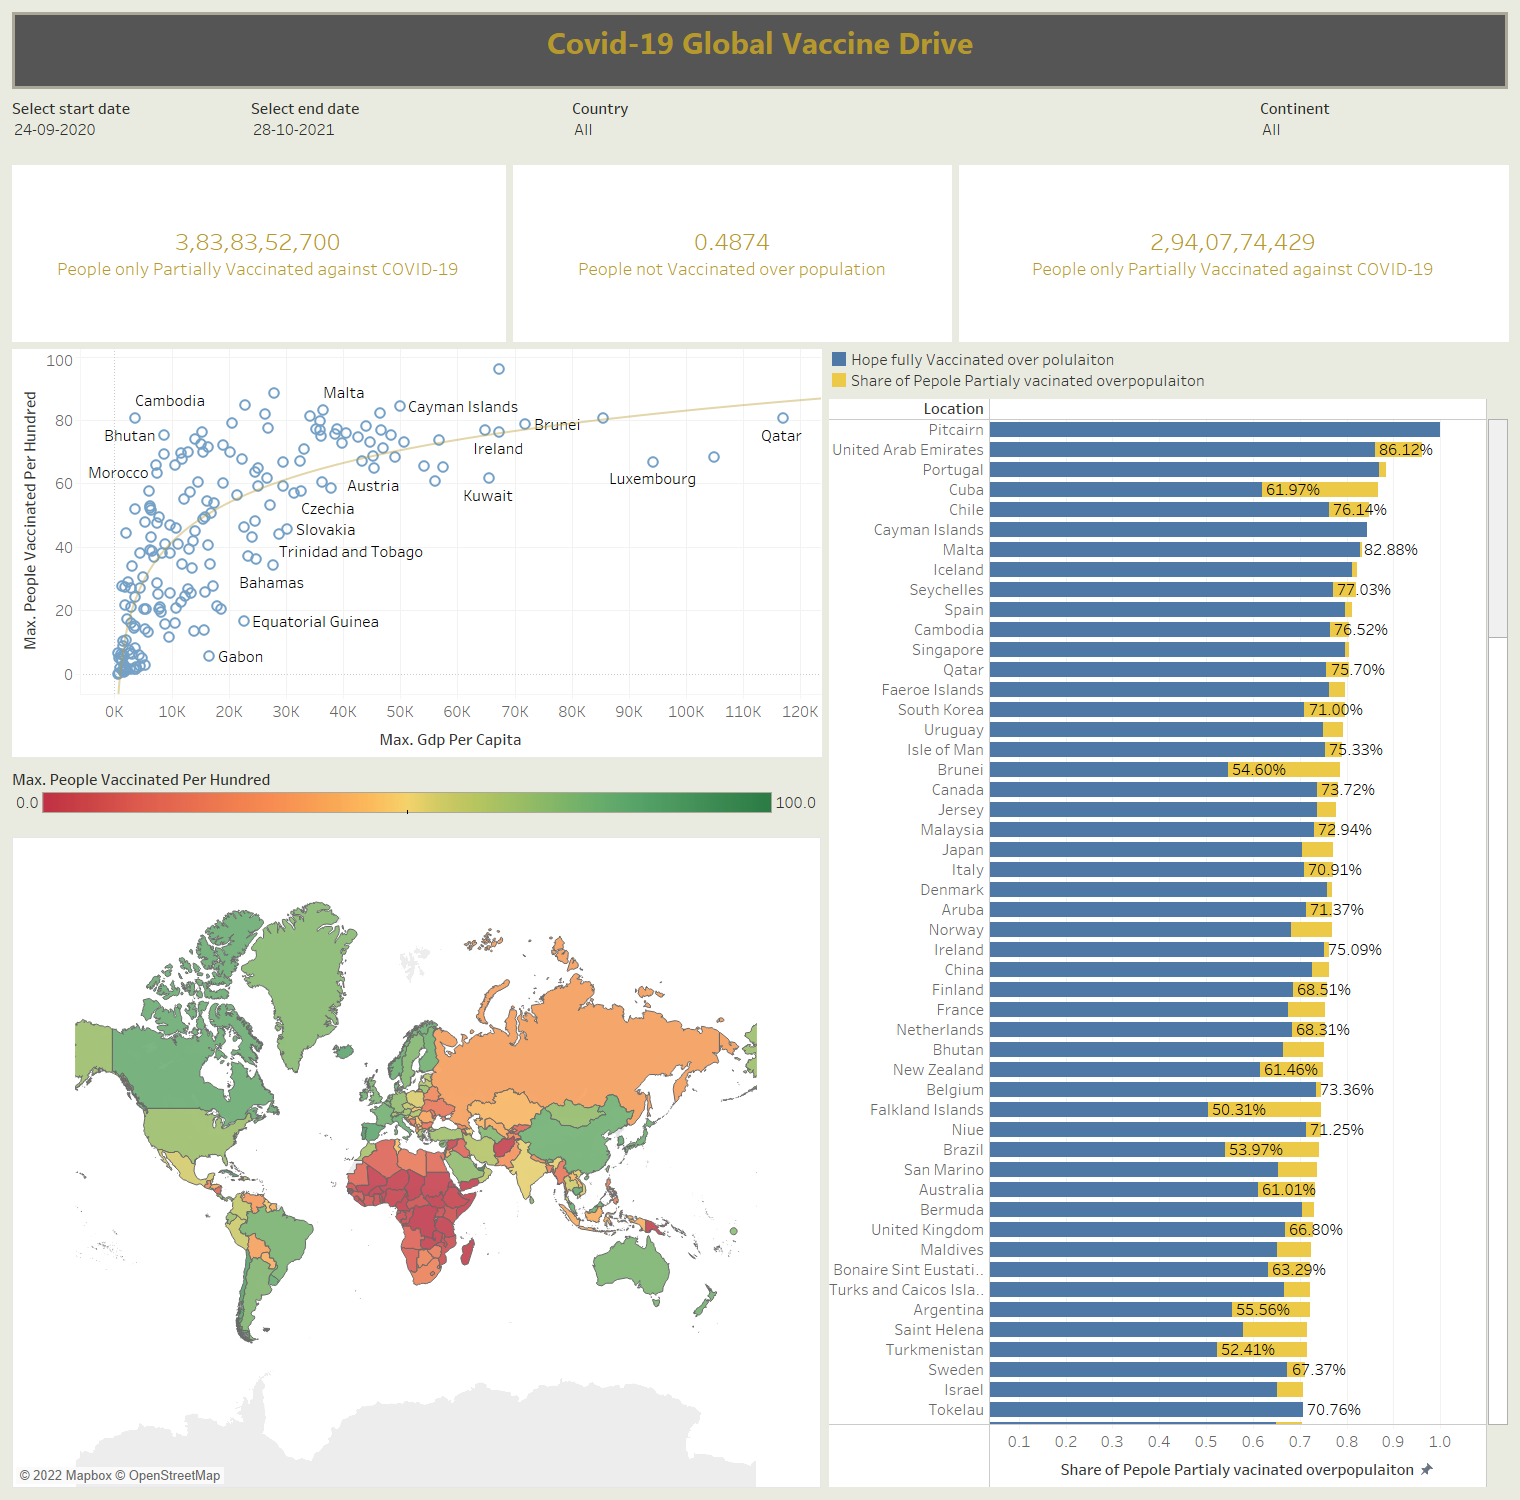

What the dashboard file says about the page in this screenshot:
{"tool":"tableau","page":{"name":"Covid-19 Global Vaccine Drive","canvas":[1520,1500],"ordinal":0},"visuals":[{"type":"title","box":[8,8,1504,85]},{"type":"parameter","param":"[Parameters].[Parameter 1]","box":[8,93,239,68]},{"type":"parameter","param":"[Parameters].[Select start date (copy)_2310065177628188675]","box":[247,93,321,68]},{"type":"filter","title":"Covid_PV-1","param":"[federated.0s1bd5z05kixv91fsymqx1jh2dvj].[none:Location:nk]","box":[568,93,688,68]},{"type":"filter","title":"Covid_PV-1","param":"[federated.0s1bd5z05kixv91fsymqx1jh2dvj].[none:Continent:nk]","box":[1256,93,256,68]},{"type":"worksheet","title":"Covid_PV-1","mark":"Automatic","box":[8,161,501.3,184.4]},{"type":"worksheet","title":"Covid_NV","mark":"Automatic","box":[509.2,161,445.7,184.4]},{"type":"worksheet","title":"Covid_FV","mark":"Automatic","box":[955,161,557,184.4]},{"type":"worksheet","title":"Vacination over GDP","mark":"Automatic","rows":["People Vaccinated Per Hundred"],"cols":["Gdp Per Capita"],"box":[8,345.4,817,415.6]},{"type":"legend","title":"Fully Vacinated Per Country","param":"[federated.0s1bd5z05kixv91fsymqx1jh2dvj].[:Measure Names]","box":[825,345.4,687,49.6]},{"type":"worksheet","title":"Fully Vacinated Per Country","mark":"Bar","rows":["Location"],"cols":["Calculation_2310065177605177344","Share of Pepole Partialy vacinated overpopulaiton (copy)_231"],"box":[825,395,687,1097]},{"type":"legend","title":"Vacination per 100","param":"[federated.0s1bd5z05kixv91fsymqx1jh2dvj].[max:People Vaccinated Per Hundred:qk]","box":[8,761,817,72]},{"type":"worksheet","title":"Vacination per 100","mark":"Automatic","box":[8,833,817,659]}]}

Visuals, with their boxes in screenshot pixels (x1, y1, x2, y2), scaled from the page's 1520x1500 canvas onto the 1520x1500 screenshot:
title: bbox=(8, 8, 1512, 93)
parameter: bbox=(8, 93, 247, 161)
parameter: bbox=(247, 93, 568, 161)
"Covid_PV-1" filter: bbox=(568, 93, 1256, 161)
"Covid_PV-1" filter: bbox=(1256, 93, 1512, 161)
"Covid_PV-1" worksheet: bbox=(8, 161, 509, 345)
"Covid_NV" worksheet: bbox=(509, 161, 955, 345)
"Covid_FV" worksheet: bbox=(955, 161, 1512, 345)
"Vacination over GDP" worksheet: bbox=(8, 345, 825, 761)
"Fully Vacinated Per Country" legend: bbox=(825, 345, 1512, 395)
"Fully Vacinated Per Country" worksheet (Bar marks): bbox=(825, 395, 1512, 1492)
"Vacination per 100" legend: bbox=(8, 761, 825, 833)
"Vacination per 100" worksheet: bbox=(8, 833, 825, 1492)
